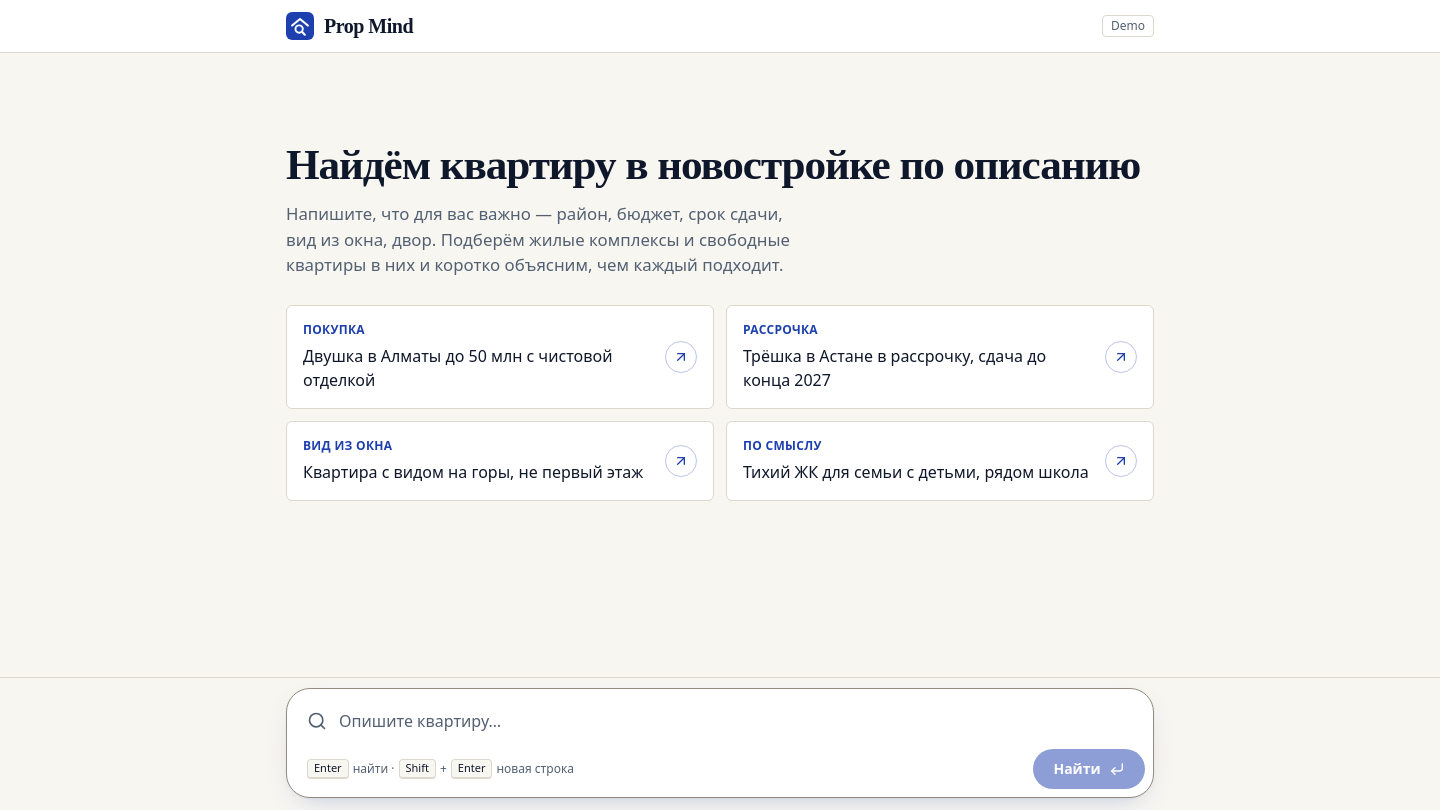
empty screen: greeting and examples; clicking an example sends it
Check: the heading "Найдём квартиру в новостройке по описанию" is shown, box [286,141,1154,189]
Click the button "Покупка Двушка в Алматы до 50 млн с чистовой отделкой".
click(500, 357)  # box [286,305,714,409]
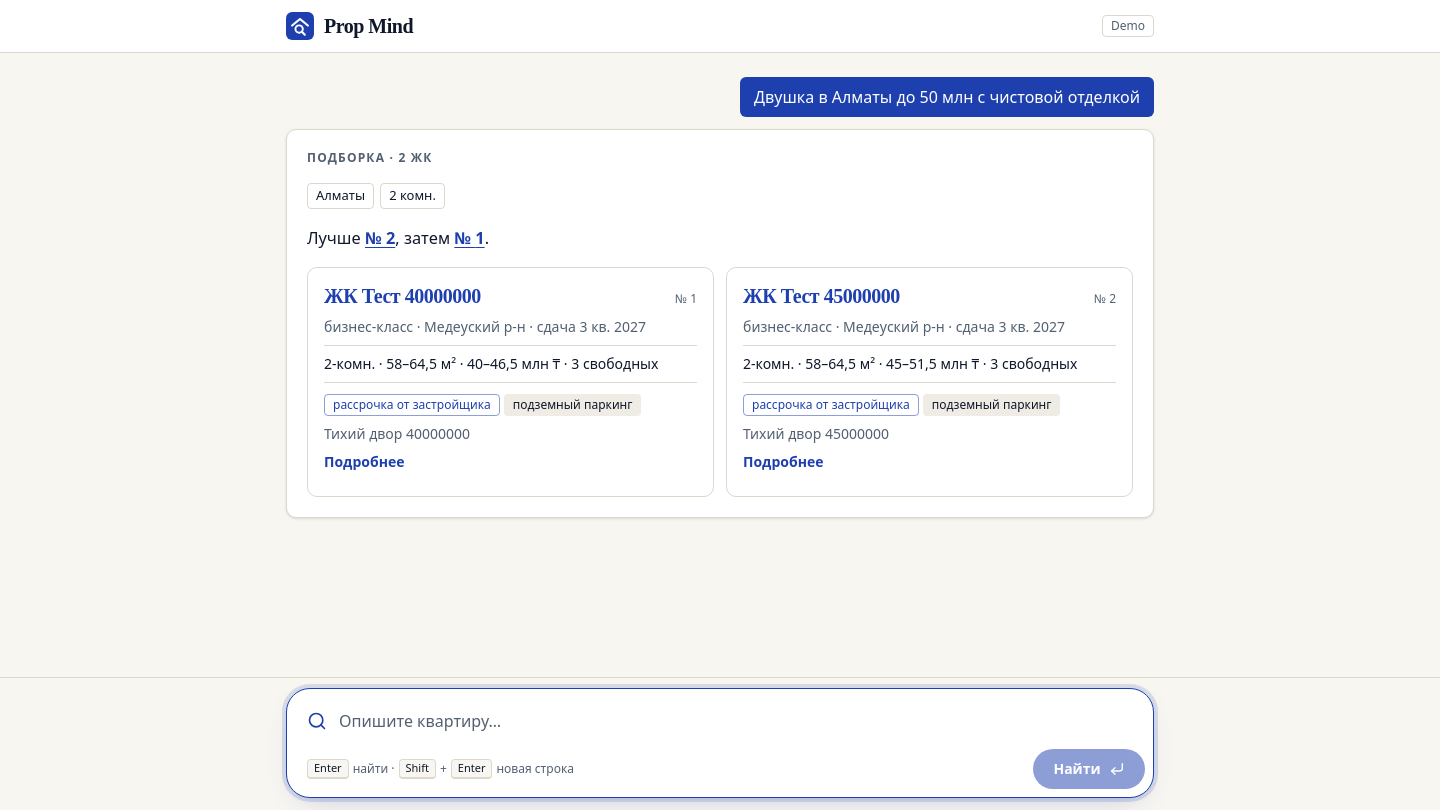
Check: the text "Двушка в Алматы до 50 млн с чистовой отделкой" is shown, box [740,77,1154,117]
Check: the heading "Найдём квартиру в новостройке по описанию" is gone
